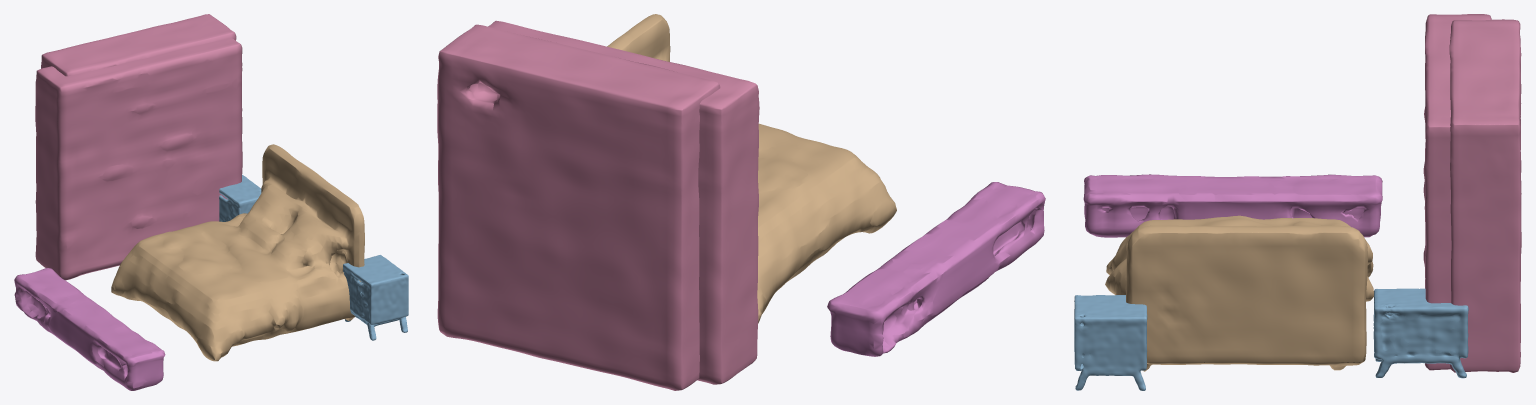
Rendered from MasterBedroom-9404_echoscene.glb.
3 renders of one model, left to right at view 1: azimuth 30°, elevation 25°; view 2: azimuth 150°, elevation 25°; view 3: azimuth 270°, elevation 25°, orthographic. The views are drawn at different scales.
Visible parts, largest first — view 1: world; view 2: world; view 3: world.
Boxes of the visible parts, left/top/right/bottom form: world: left=14, top=14, right=408, bottom=390; world: left=437, top=14, right=1045, bottom=390; world: left=1074, top=14, right=1521, bottom=390.
Size of the model in its own units: 3.43 by 2.36 by 3.77.
